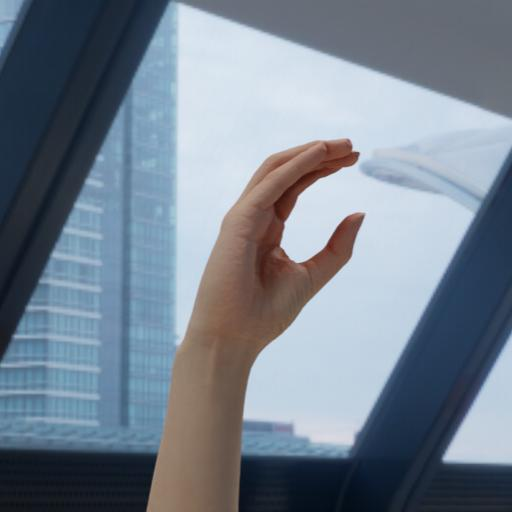C: (179, 132, 371, 356)
